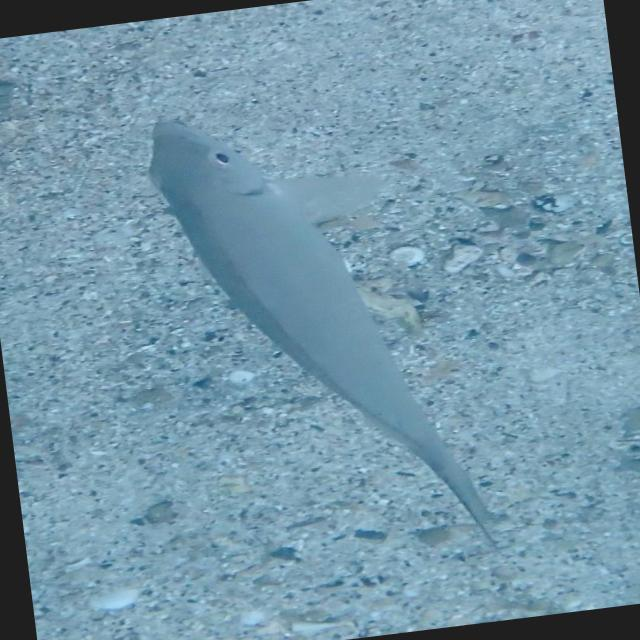Sokar Baligi: (126, 71, 555, 598)
